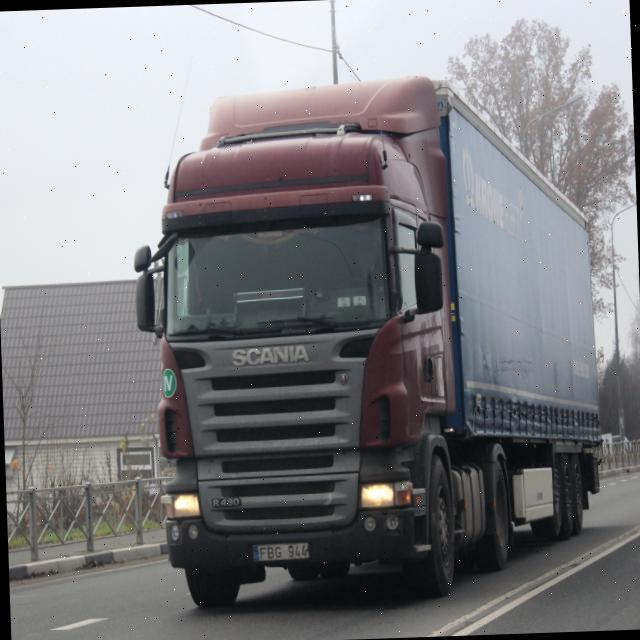License-plate: (249, 538, 312, 563)
